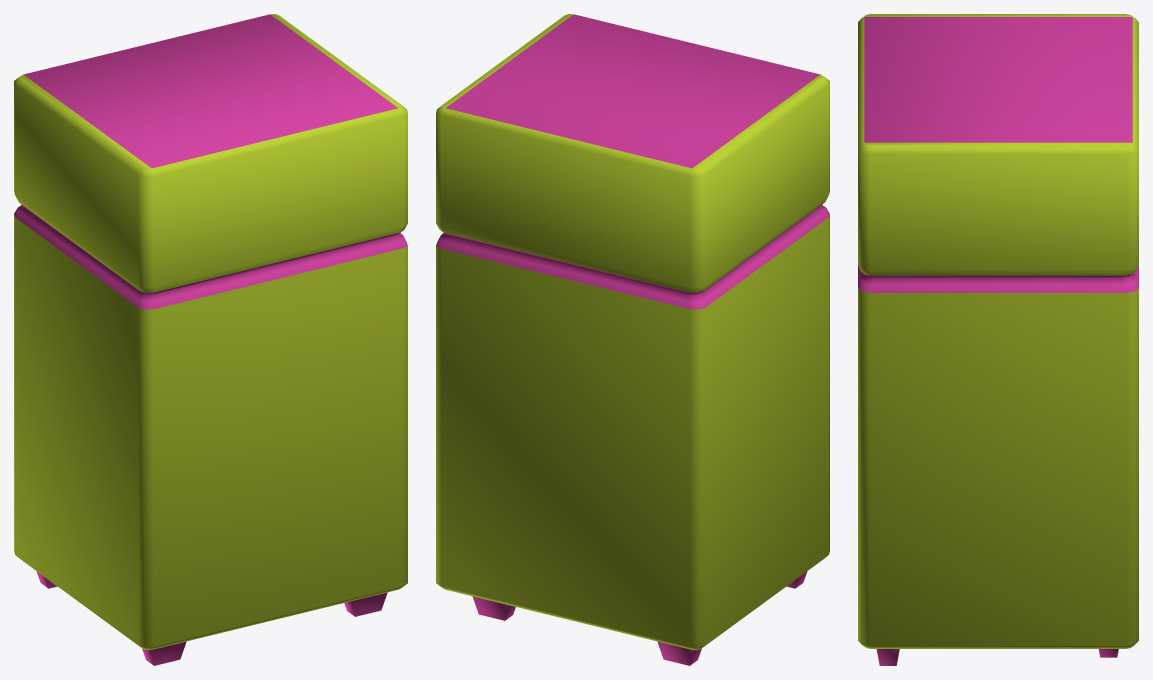
Rendered from Lata_Baterias.fbx.
The picture shows the model from 3 angles, left to right: view 1: azimuth 30°, elevation 25°; view 2: azimuth 150°, elevation 25°; view 3: azimuth 270°, elevation 25°; orthographic projection. The views are drawn at different scales.
Visible parts, largest first — view 1: Lata, 2; view 2: Lata, 2; view 3: Lata, 2.
Part boxes in pixels (x1,y1,x2,y2): Lata: (14, 14, 407, 650); 2: (14, 204, 407, 665); Lata: (436, 14, 829, 650); 2: (436, 204, 829, 665); Lata: (858, 14, 1138, 648); 2: (858, 265, 1138, 665).
Bounding box in the file's own units: 78.48 × 141 × 68.05.
